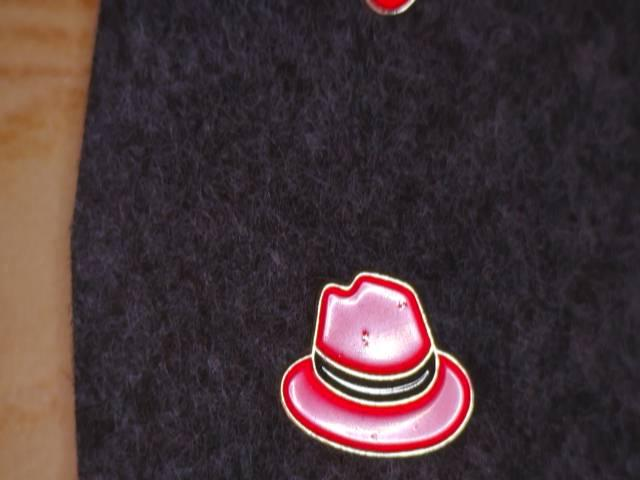Red-Hat: (260, 256, 505, 471)
